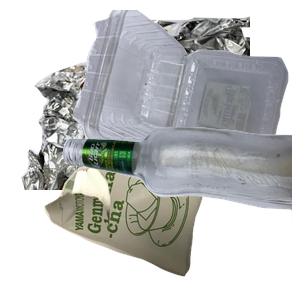glass: (60, 124, 300, 300)
metal: (19, 14, 259, 194)
plastic: (70, 10, 300, 171)
trash: (42, 126, 249, 300)
